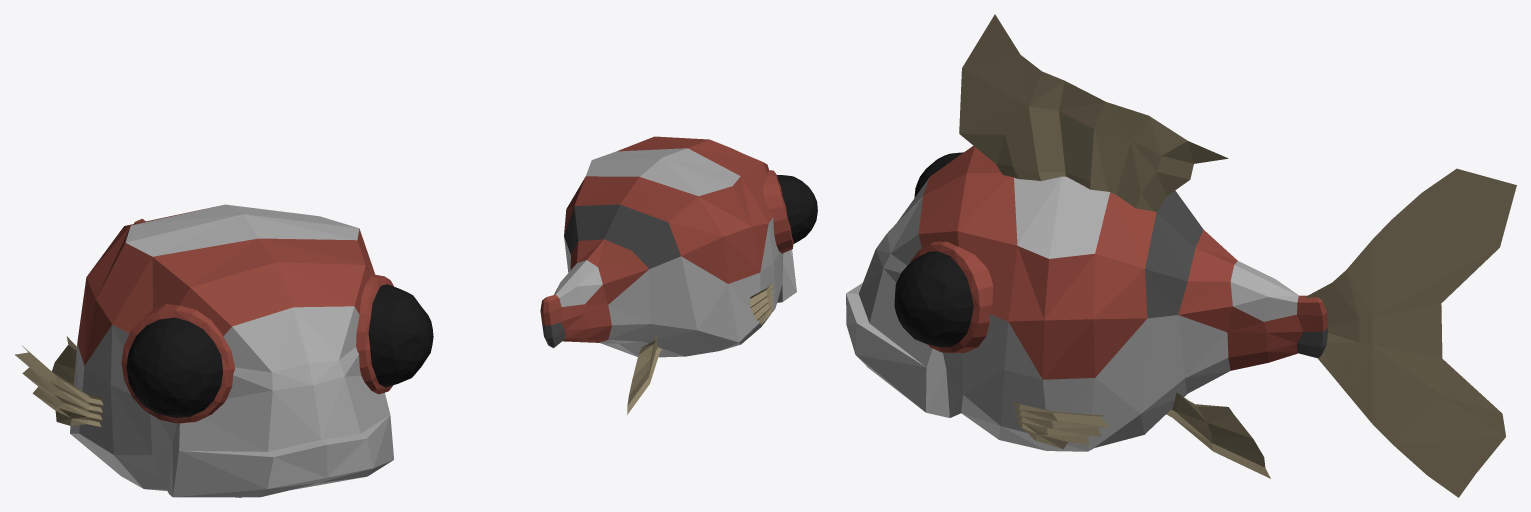
File: koi.glb
The picture shows the model from 3 angles, left to right: view 1: azimuth 30°, elevation 25°; view 2: azimuth 150°, elevation 25°; view 3: azimuth 270°, elevation 25°; orthographic projection. The views are drawn at different scales.
Parts seen in each view (by area): view 1: Koi_baked; view 2: Koi_baked; view 3: Koi_baked.
Part boxes in pixels (x1,y1,x2,y2): Koi_baked: [15, 204, 433, 497]; Koi_baked: [540, 136, 817, 414]; Koi_baked: [846, 14, 1516, 497].
Size of the model in its own units: 3.12 by 4.52 by 5.62.
Materials: 1 (1 with a texture image).
